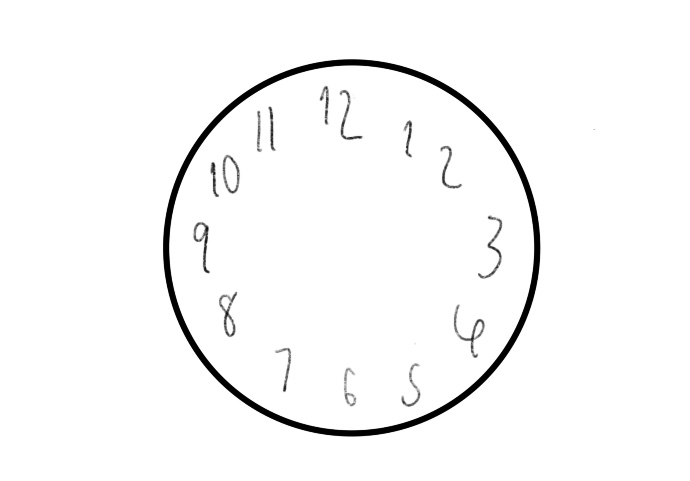eight: (218, 291, 237, 340)
eleven: (252, 104, 278, 156)
five: (401, 360, 424, 409)
four: (453, 301, 485, 363)
nine: (191, 217, 215, 275)
one: (404, 116, 415, 158)
seven: (277, 344, 294, 394)
six: (339, 363, 359, 410)
ten: (208, 155, 241, 196)
three: (475, 214, 504, 279)
twelve: (315, 80, 362, 143)
two: (436, 141, 464, 189)
